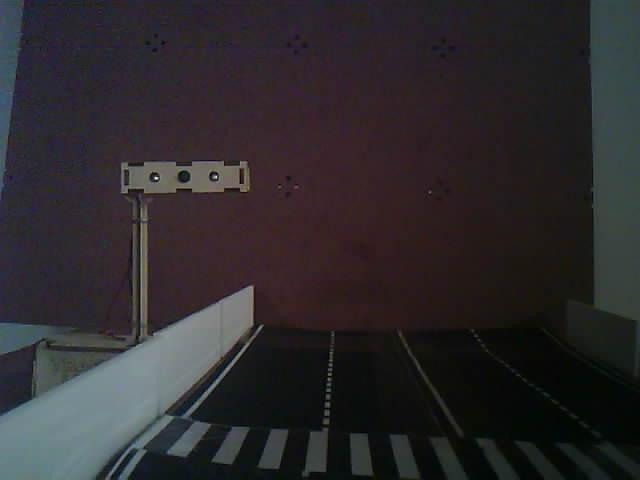crosswalk: (93, 397, 640, 480)
no: (61, 123, 321, 369)
